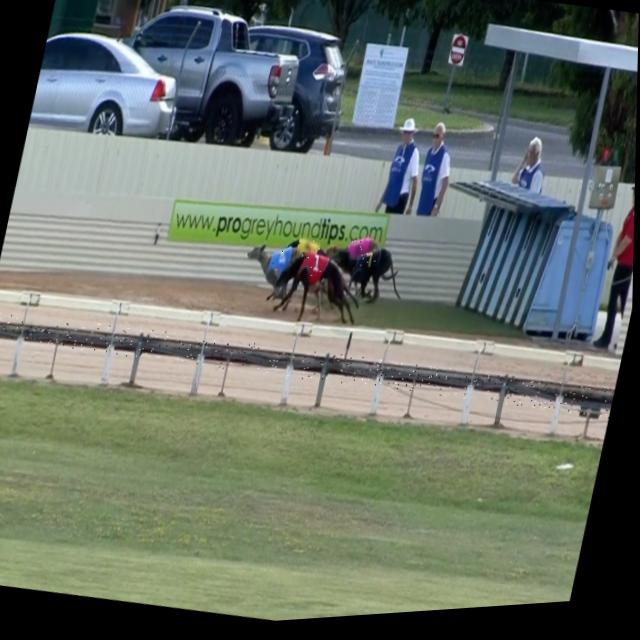dog_eight: (350, 243, 369, 266)
dog_five: (297, 239, 323, 266)
dog_four: (272, 251, 293, 277)
dog_one: (307, 254, 327, 286)
dog_seven: (358, 253, 380, 284)
rail: (0, 322, 617, 419)
